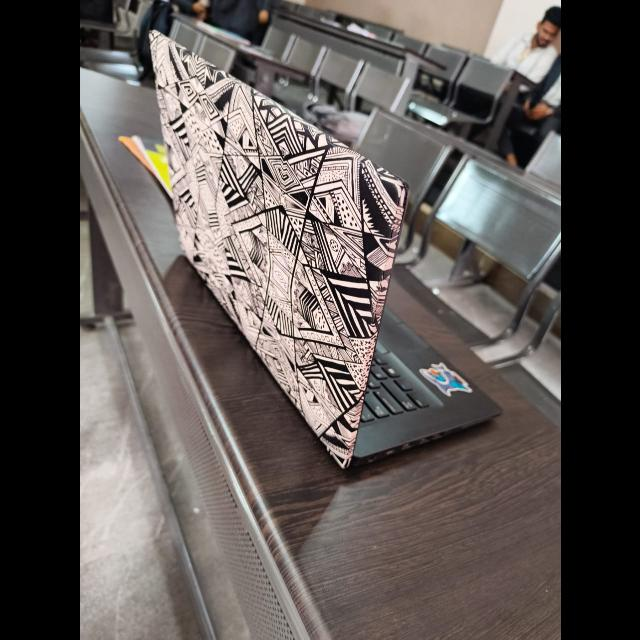laptop: (136, 17, 496, 476)
